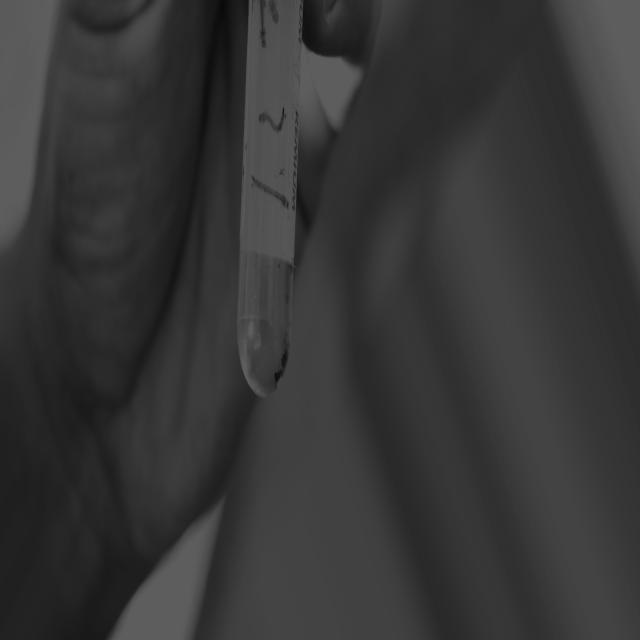larvas: (251, 178, 288, 210), (260, 111, 287, 133), (258, 1, 268, 46), (270, 1, 282, 24)
